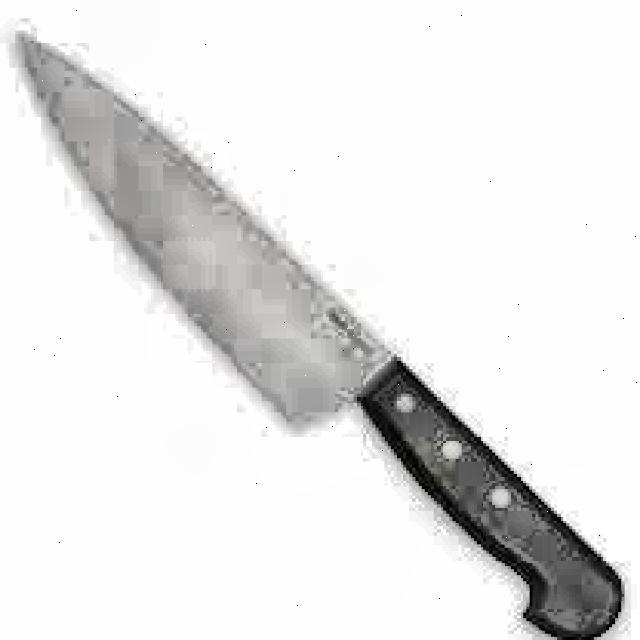knife: (18, 37, 624, 640)
